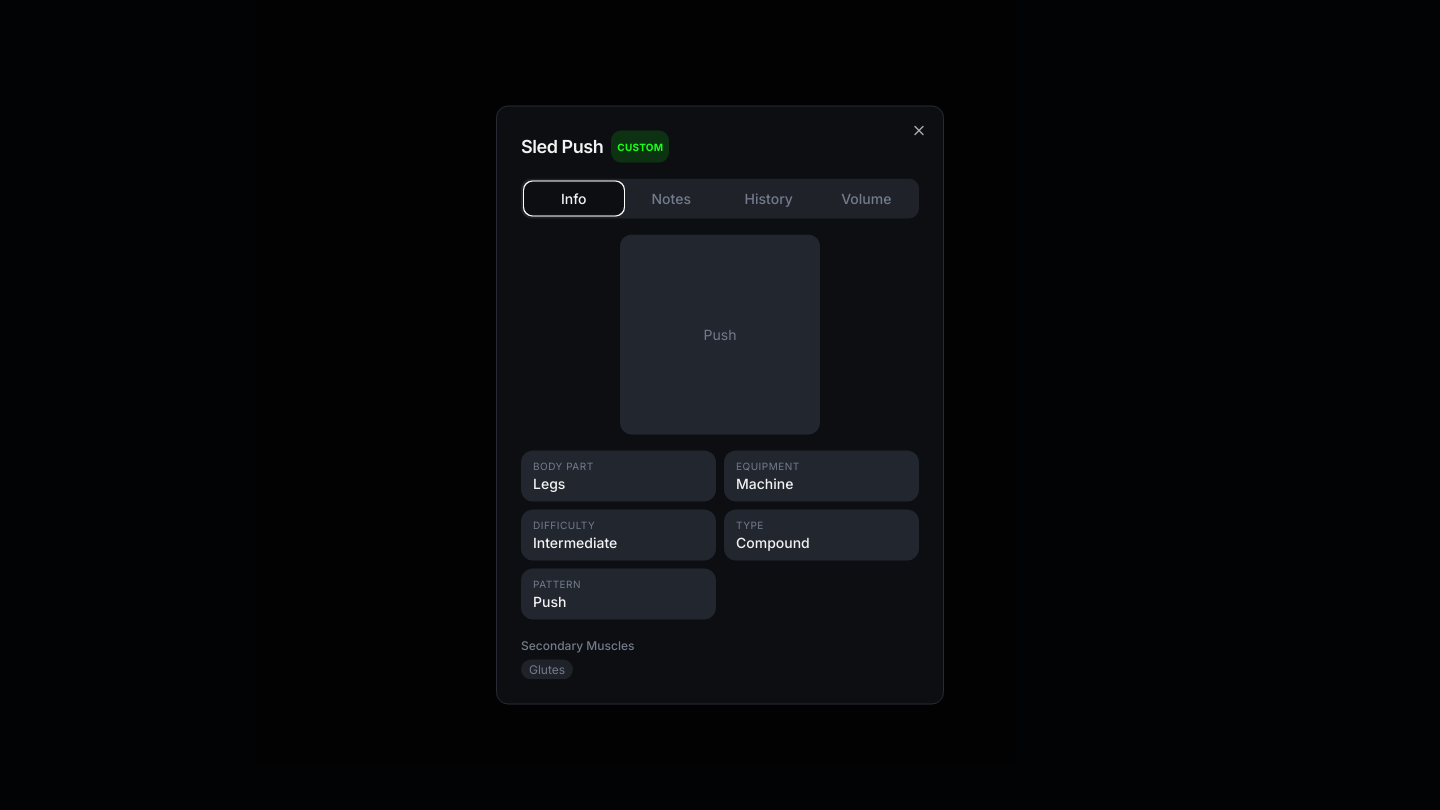
Test: ExerciseDetailModal — Notes tab › falls back to a read-only note when no save handler is wired up
The width and height of the screenshot is (1440, 810).
Press the mouse on the tab "Notes" at (671, 198), box [622,182,720,214]
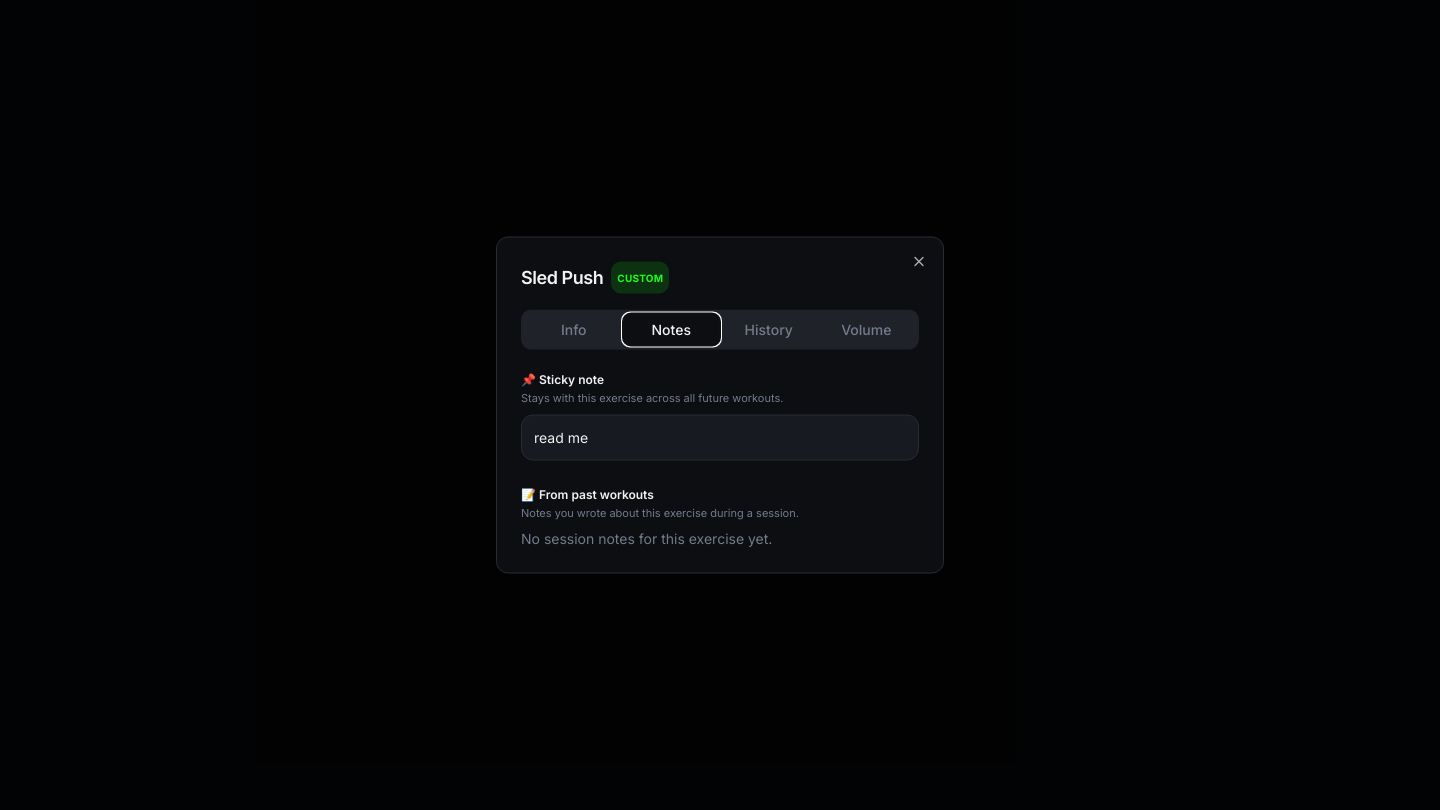
Expected: the text "read me" is shown, [521,414,919,460]
